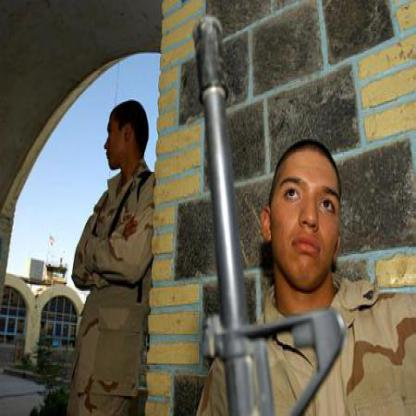face: (272, 142, 344, 291)
